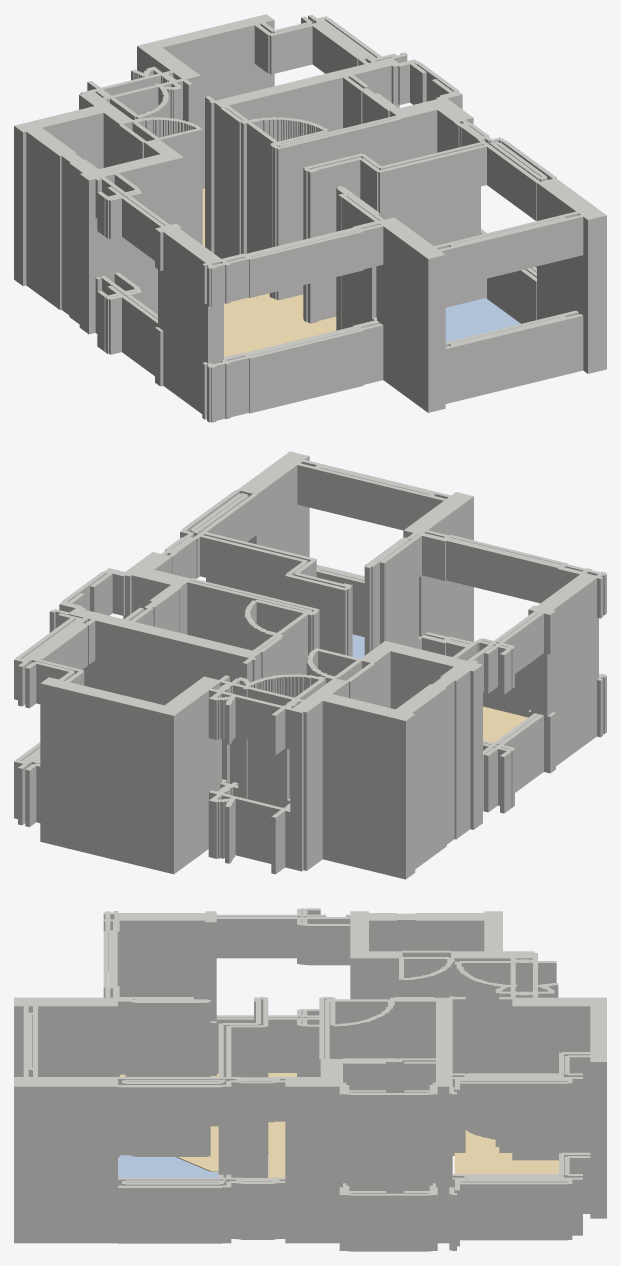
The picture shows the model from 3 angles, top to bottom: view 1: azimuth 30°, elevation 25°; view 2: azimuth 150°, elevation 25°; view 3: azimuth 270°, elevation 25°; orthographic projection. The views are drawn at different scales.
Parts seen in each view (by area): view 1: walls, room:living:4, room:bedroom:5; view 2: walls, room:living:4; view 3: walls, room:living:4, room:bedroom:5.
Boxes of the visible parts, x1,y1,x2,y2 form: walls: (14,14,606,422); room:living:4: (202,188,336,356); room:bedroom:5: (445,298,520,341); walls: (14,451,606,879); room:living:4: (483,706,527,742); walls: (14,908,606,1251); room:living:4: (120,1073,558,1177); room:bedroom:5: (118,1155,218,1177).
Bounding box in the file's own units: 7.16 × 2.8 × 9.61.
